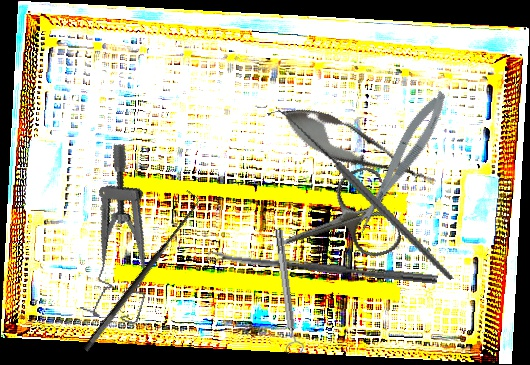Fixation Ring: (269, 227, 305, 355)
Hook Surgical: (267, 77, 455, 315), (70, 189, 207, 354)
Iris Scissors: (266, 163, 405, 285)
Micro Scissor: (273, 94, 444, 202), (344, 86, 456, 237)
Speculum: (65, 141, 184, 330)
Surgical Spoon: (207, 249, 438, 285)
